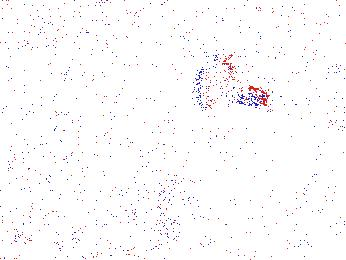flame jellyfish: (193, 60, 270, 113), (2, 168, 54, 219), (144, 167, 188, 214)
